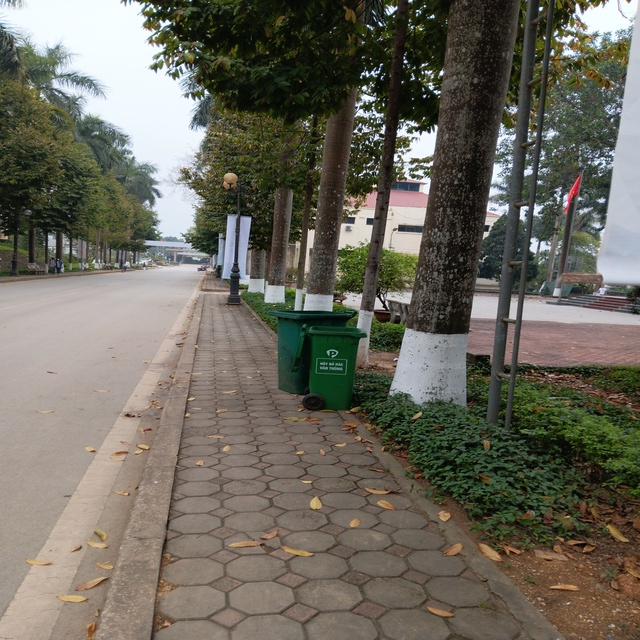thungrac: (268, 299, 349, 398), (300, 320, 368, 418)
